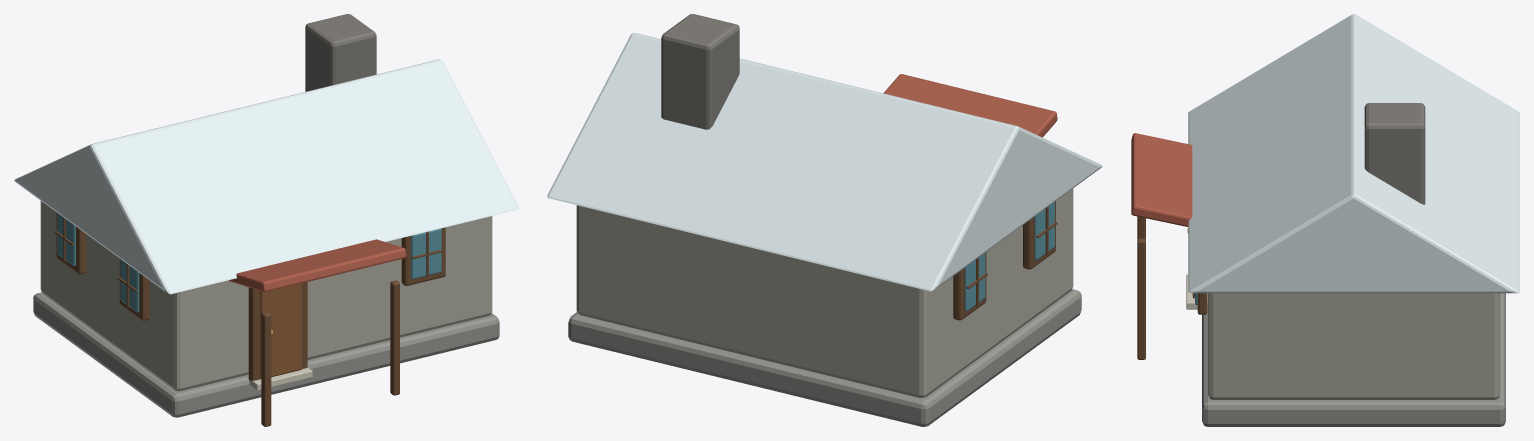
Rendered from snowy-workshop-0.glb.
3 renders of one model, left to right at view 1: azimuth 30°, elevation 25°; view 2: azimuth 150°, elevation 25°; view 3: azimuth 270°, elevation 25°, orthographic. The views are drawn at different scales.
Visible parts, largest first — view 1: Snow, Fieldstone, Foundation stone, Dark beams, Soot stone, Clay tiles, Door oak, Blue glass, Cut limestone; view 2: Snow, Fieldstone, Foundation stone, Soot stone, Clay tiles, Dark beams, Blue glass; view 3: Snow, Fieldstone, Foundation stone, Soot stone, Clay tiles, Dark beams.
Part boxes in pixels (x1,y1,x2,y2): Snow: (14, 59, 518, 294); Fieldstone: (40, 201, 492, 391); Foundation stone: (33, 292, 499, 417); Dark beams: (55, 212, 445, 426); Soot stone: (305, 14, 376, 91); Clay tiles: (229, 239, 406, 292); Door oak: (260, 283, 301, 378); Blue glass: (57, 213, 441, 312); Cut limestone: (247, 367, 312, 390); Snow: (547, 33, 1102, 291); Fieldstone: (576, 188, 1073, 397); Foundation stone: (568, 289, 1081, 426); Soot stone: (661, 14, 739, 129); Clay tiles: (883, 74, 1057, 137); Dark beams: (953, 201, 1057, 320); Blue glass: (964, 202, 1054, 311); Snow: (1188, 14, 1519, 293); Fieldstone: (1208, 293, 1500, 399); Foundation stone: (1202, 293, 1505, 426); Soot stone: (1364, 103, 1425, 204); Clay tiles: (1131, 133, 1192, 226); Dark beams: (1137, 216, 1207, 359).
Size of the model in its own units: 4.44 by 3.17 by 3.99.
